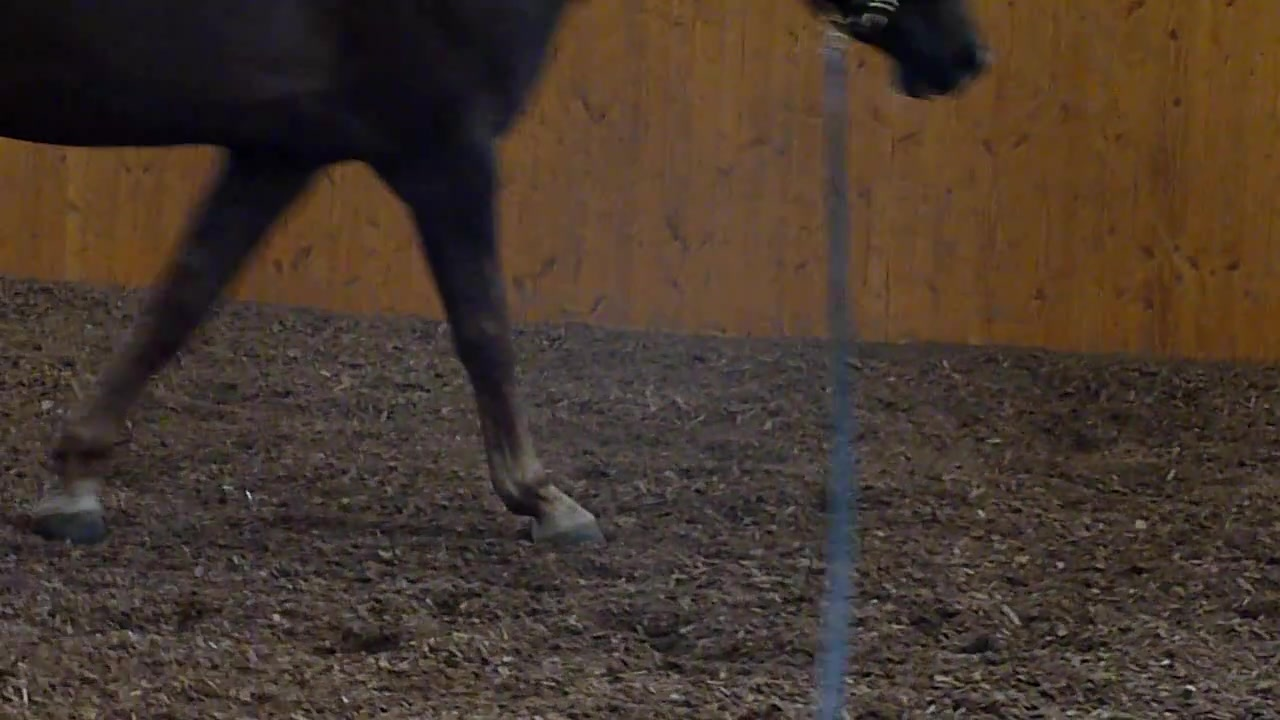horse: (1, 1, 992, 556)
